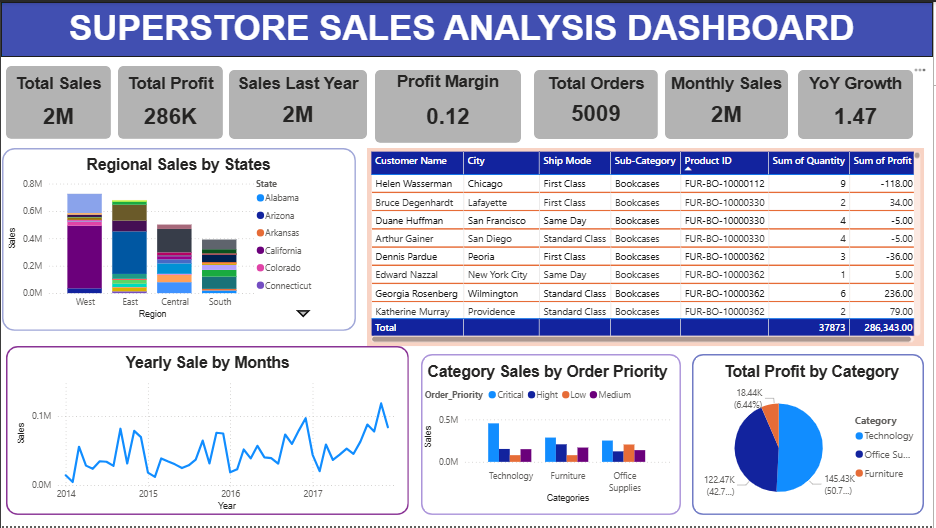

The dashboard page shown, as its layout file describes it:
{"tool":"powerbi","page":{"name":"Page 1","canvas":[1280,720],"ordinal":0},"visuals":[{"type":"shape","box":[949,483.4,318.6,221.1],"z":0},{"type":"tableEx","fields":{"Values":["Superstore_sales_dataset.Customer Name","Superstore_sales_dataset.City","Superstore_sales_dataset.Ship Mode","Superstore_sales_dataset.Sub-Category","Superstore_sales_dataset.Product ID","Sum(Superstore_sales_dataset.Quantity)","Sum(Superstore_sales_dataset. Profit )"]},"box":[502.7,200.5,765,271.9],"z":1000},{"type":"pieChart","title":"Total Profit  by Category","fields":{"Y":["Sum(Superstore_sales_dataset. Profit )"],"Category":["Superstore_sales_dataset.Category"]},"box":[953.1,490.3,309,208.8],"z":2000},{"type":"shape","box":[6.9,472.4,553.5,232.1],"z":3000},{"type":"shape","box":[576.8,483.4,357.1,221.1],"z":4000},{"type":"shape","box":[1.4,200.5,486.2,251.3],"z":5000},{"type":"shape","box":[0,0,1280,75.5],"z":6000},{"type":"shape","box":[6.9,87.9,144.2,100.3],"z":7000},{"type":"lineStackedColumnComboChart","title":"Regional Sales by States ","fields":{"Y":["Sum(Superstore_sales_dataset. Sales )"],"Series":["Superstore_sales_dataset.State"],"Category":["Superstore_sales_dataset.Region"]},"box":[5.5,211.5,476.6,229.4],"z":8000},{"type":"lineChart","title":"Yearly Sale by Months ","fields":{"Y":["Sum(Superstore_sales_dataset. Sales )"],"Category":["Superstore_sales_dataset.Order Date.Variation.Date Hierarchy.Year","Superstore_sales_dataset.Order Date.Variation.Date Hierarchy.Month"]},"box":[17.9,483.4,531.5,221.1],"z":9000},{"type":"clusteredColumnChart","title":"Category Sales by Order Priority","fields":{"Category":["Superstore_sales_dataset.Category"],"Y":["Sum(Superstore_sales_dataset. Sales )"],"Series":["Superstore_sales_dataset.Order_Priority"]},"box":[576.8,495.8,347.5,197.8],"z":10000},{"type":"shape","box":[160.7,87.9,144.2,100.3],"z":11000},{"type":"shape","box":[313.1,93.4,189.5,94.8],"z":12000},{"type":"shape","box":[513.6,93.4,200.5,100.3],"z":13000},{"type":"shape","box":[732,93.4,170.3,94.8],"z":14000},{"type":"shape","box":[911.9,93.4,168.9,94.8],"z":15000},{"type":"shape","box":[1094.6,93.4,157.9,94.8],"z":16000},{"type":"card","title":"YoY Growth","fields":{"Values":["Measures (2).YoY Growth"]},"box":[1094.6,98.9,157.9,89.3],"z":17000},{"type":"card","title":"Total Sales","fields":{"Values":["Measures (2).Total Sales"]},"box":[11,98.9,136,89.3],"z":18000},{"type":"card","title":"Total Profit","fields":{"Values":["Measures (2).Total Profit"]},"box":[160.7,98.9,144.2,89.3],"z":19000},{"type":"card","title":"Sales Last Year","fields":{"Values":["Measures (2).Sales Last Year"]},"box":[313.1,98.9,189.5,83.8],"z":20000},{"type":"card","title":"Profit Margin","fields":{"Values":["Measures (2).Profit Ma rgin"]},"box":[513.6,96.1,200.5,94.8],"z":21000},{"type":"card","title":"Total Orders","fields":{"Values":["Measures (2).Total Orders"]},"box":[732,98.9,170.3,79.7],"z":22000},{"type":"card","title":"Monthly Sales","fields":{"Values":["Measures (2).Monthly Sales"]},"box":[911.9,98.9,168.9,83.8],"z":23000},{"type":"textbox","box":[82.4,2.7,1113.8,67.3],"z":24000}]}

Visuals, with their boxes in screenshot pixels (x1, y1, x2, y2), scaled from the page's 1280x720 canvas onto the 936x528 screenshot:
shape: [left=694, top=354, right=927, bottom=517]
tableEx - Superstore_sales_dataset.Customer Name x Superstore_sales_dataset.City: [left=368, top=147, right=927, bottom=346]
"Total Profit  by Category" pieChart: [left=697, top=360, right=923, bottom=513]
shape: [left=5, top=346, right=410, bottom=517]
shape: [left=422, top=354, right=683, bottom=517]
shape: [left=1, top=147, right=357, bottom=331]
shape: [left=0, top=0, right=935, bottom=55]
shape: [left=5, top=64, right=110, bottom=138]
"Regional Sales by States " lineStackedColumnComboChart: [left=4, top=155, right=353, bottom=323]
"Yearly Sale by Months " lineChart: [left=13, top=354, right=402, bottom=517]
"Category Sales by Order Priority" clusteredColumnChart: [left=422, top=364, right=676, bottom=509]
shape: [left=118, top=64, right=223, bottom=138]
shape: [left=229, top=68, right=368, bottom=138]
shape: [left=376, top=68, right=522, bottom=142]
shape: [left=535, top=68, right=660, bottom=138]
shape: [left=667, top=68, right=790, bottom=138]
shape: [left=800, top=68, right=916, bottom=138]
"YoY Growth" card: [left=800, top=73, right=916, bottom=138]
"Total Sales" card: [left=8, top=73, right=107, bottom=138]
"Total Profit" card: [left=118, top=73, right=223, bottom=138]
"Sales Last Year" card: [left=229, top=73, right=368, bottom=134]
"Profit Margin" card: [left=376, top=70, right=522, bottom=140]
"Total Orders" card: [left=535, top=73, right=660, bottom=131]
"Monthly Sales" card: [left=667, top=73, right=790, bottom=134]
textbox: [left=60, top=2, right=875, bottom=51]
